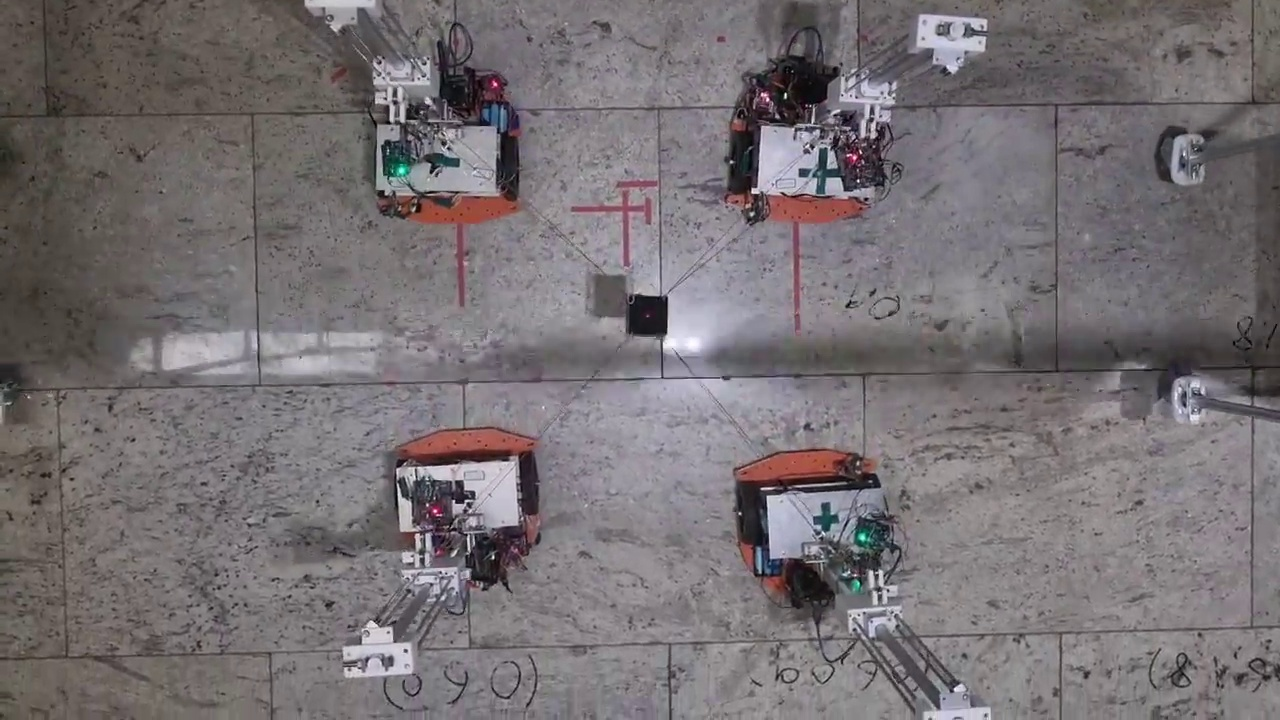e0: (627, 296, 668, 337)
r1: (737, 474, 883, 546)
r2: (729, 130, 873, 196)
r3: (376, 132, 519, 200)
r4: (397, 452, 538, 520)
y_+_axis_vector: (662, 370, 1056, 379)
y_-_axis_vector: (259, 379, 662, 386)
